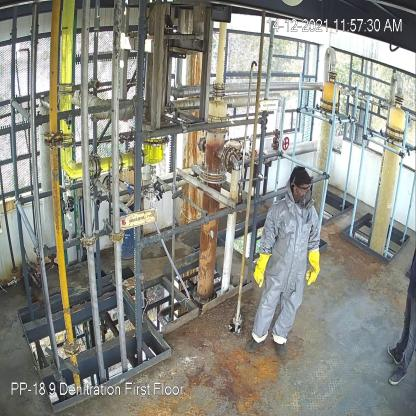mask: (298, 192, 314, 213)
